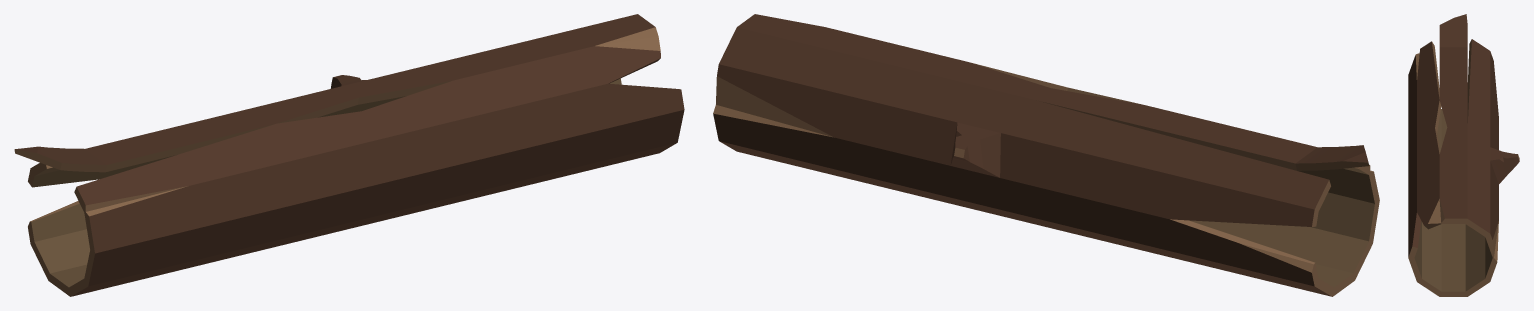
File: SM_log_01.glb
3 views of the same model, side by side, from view 1: azimuth 30°, elevation 25°; view 2: azimuth 150°, elevation 25°; view 3: azimuth 270°, elevation 25° (orthographic). The views are drawn at different scales.
Parts seen in each view (by area): view 1: SM_log_01; view 2: SM_log_01; view 3: SM_log_01.
Boxes of the visible parts, x1,y1,x2,y2 form: SM_log_01: [14, 14, 684, 296]; SM_log_01: [713, 14, 1379, 296]; SM_log_01: [1408, 14, 1519, 296].
Bounding box in the file's own units: 2.12 × 0.4566 × 0.5154.
1 material, 1 textured.
